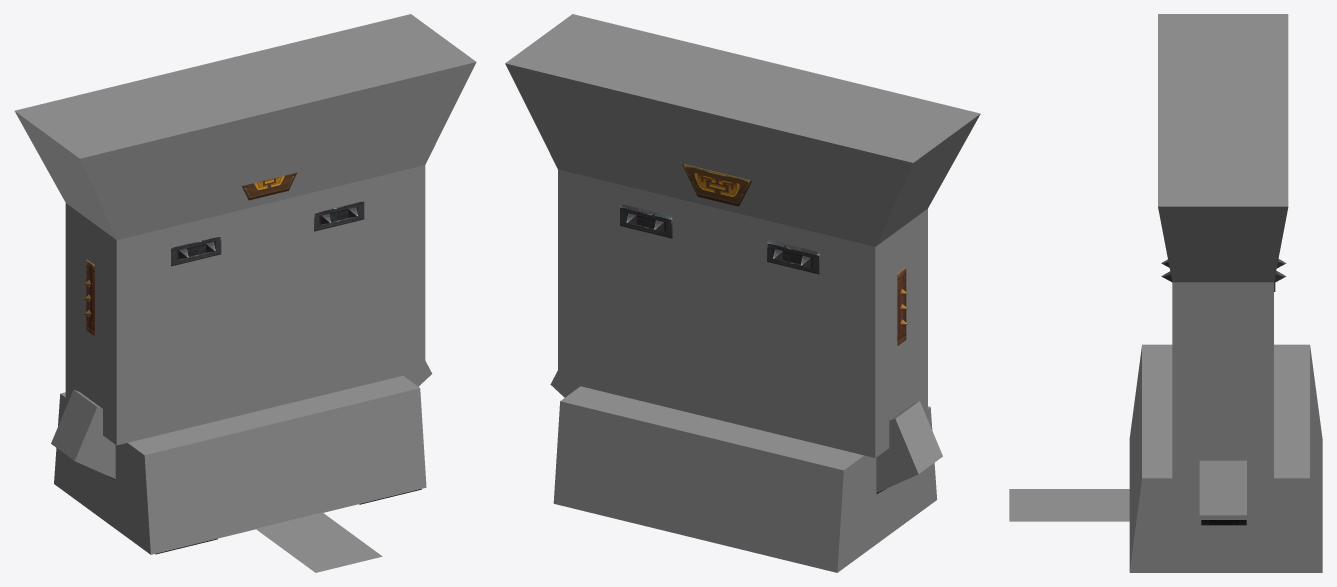
File: fb_jjc_zj_01.FBX
The picture shows the model from 3 angles, left to right: view 1: azimuth 30°, elevation 25°; view 2: azimuth 150°, elevation 25°; view 3: azimuth 270°, elevation 25°; orthographic projection. The views are drawn at different scales.
Visible parts, largest first — view 1: col_fb_jjc_zj_01, fb_jjc_zj_01; view 2: col_fb_jjc_zj_01, fb_jjc_zj_01; view 3: col_fb_jjc_zj_01, fb_jjc_zj_01.
Part boxes in pixels (x1,y1,x2,y2): col_fb_jjc_zj_01: (14,14,476,572); fb_jjc_zj_01: (84,172,421,554); col_fb_jjc_zj_01: (505,14,980,572); fb_jjc_zj_01: (620,163,907,493); col_fb_jjc_zj_01: (1009,14,1322,572); fb_jjc_zj_01: (1161,259,1286,525).
Bounding box in the file's own units: 409 × 395 × 281.
